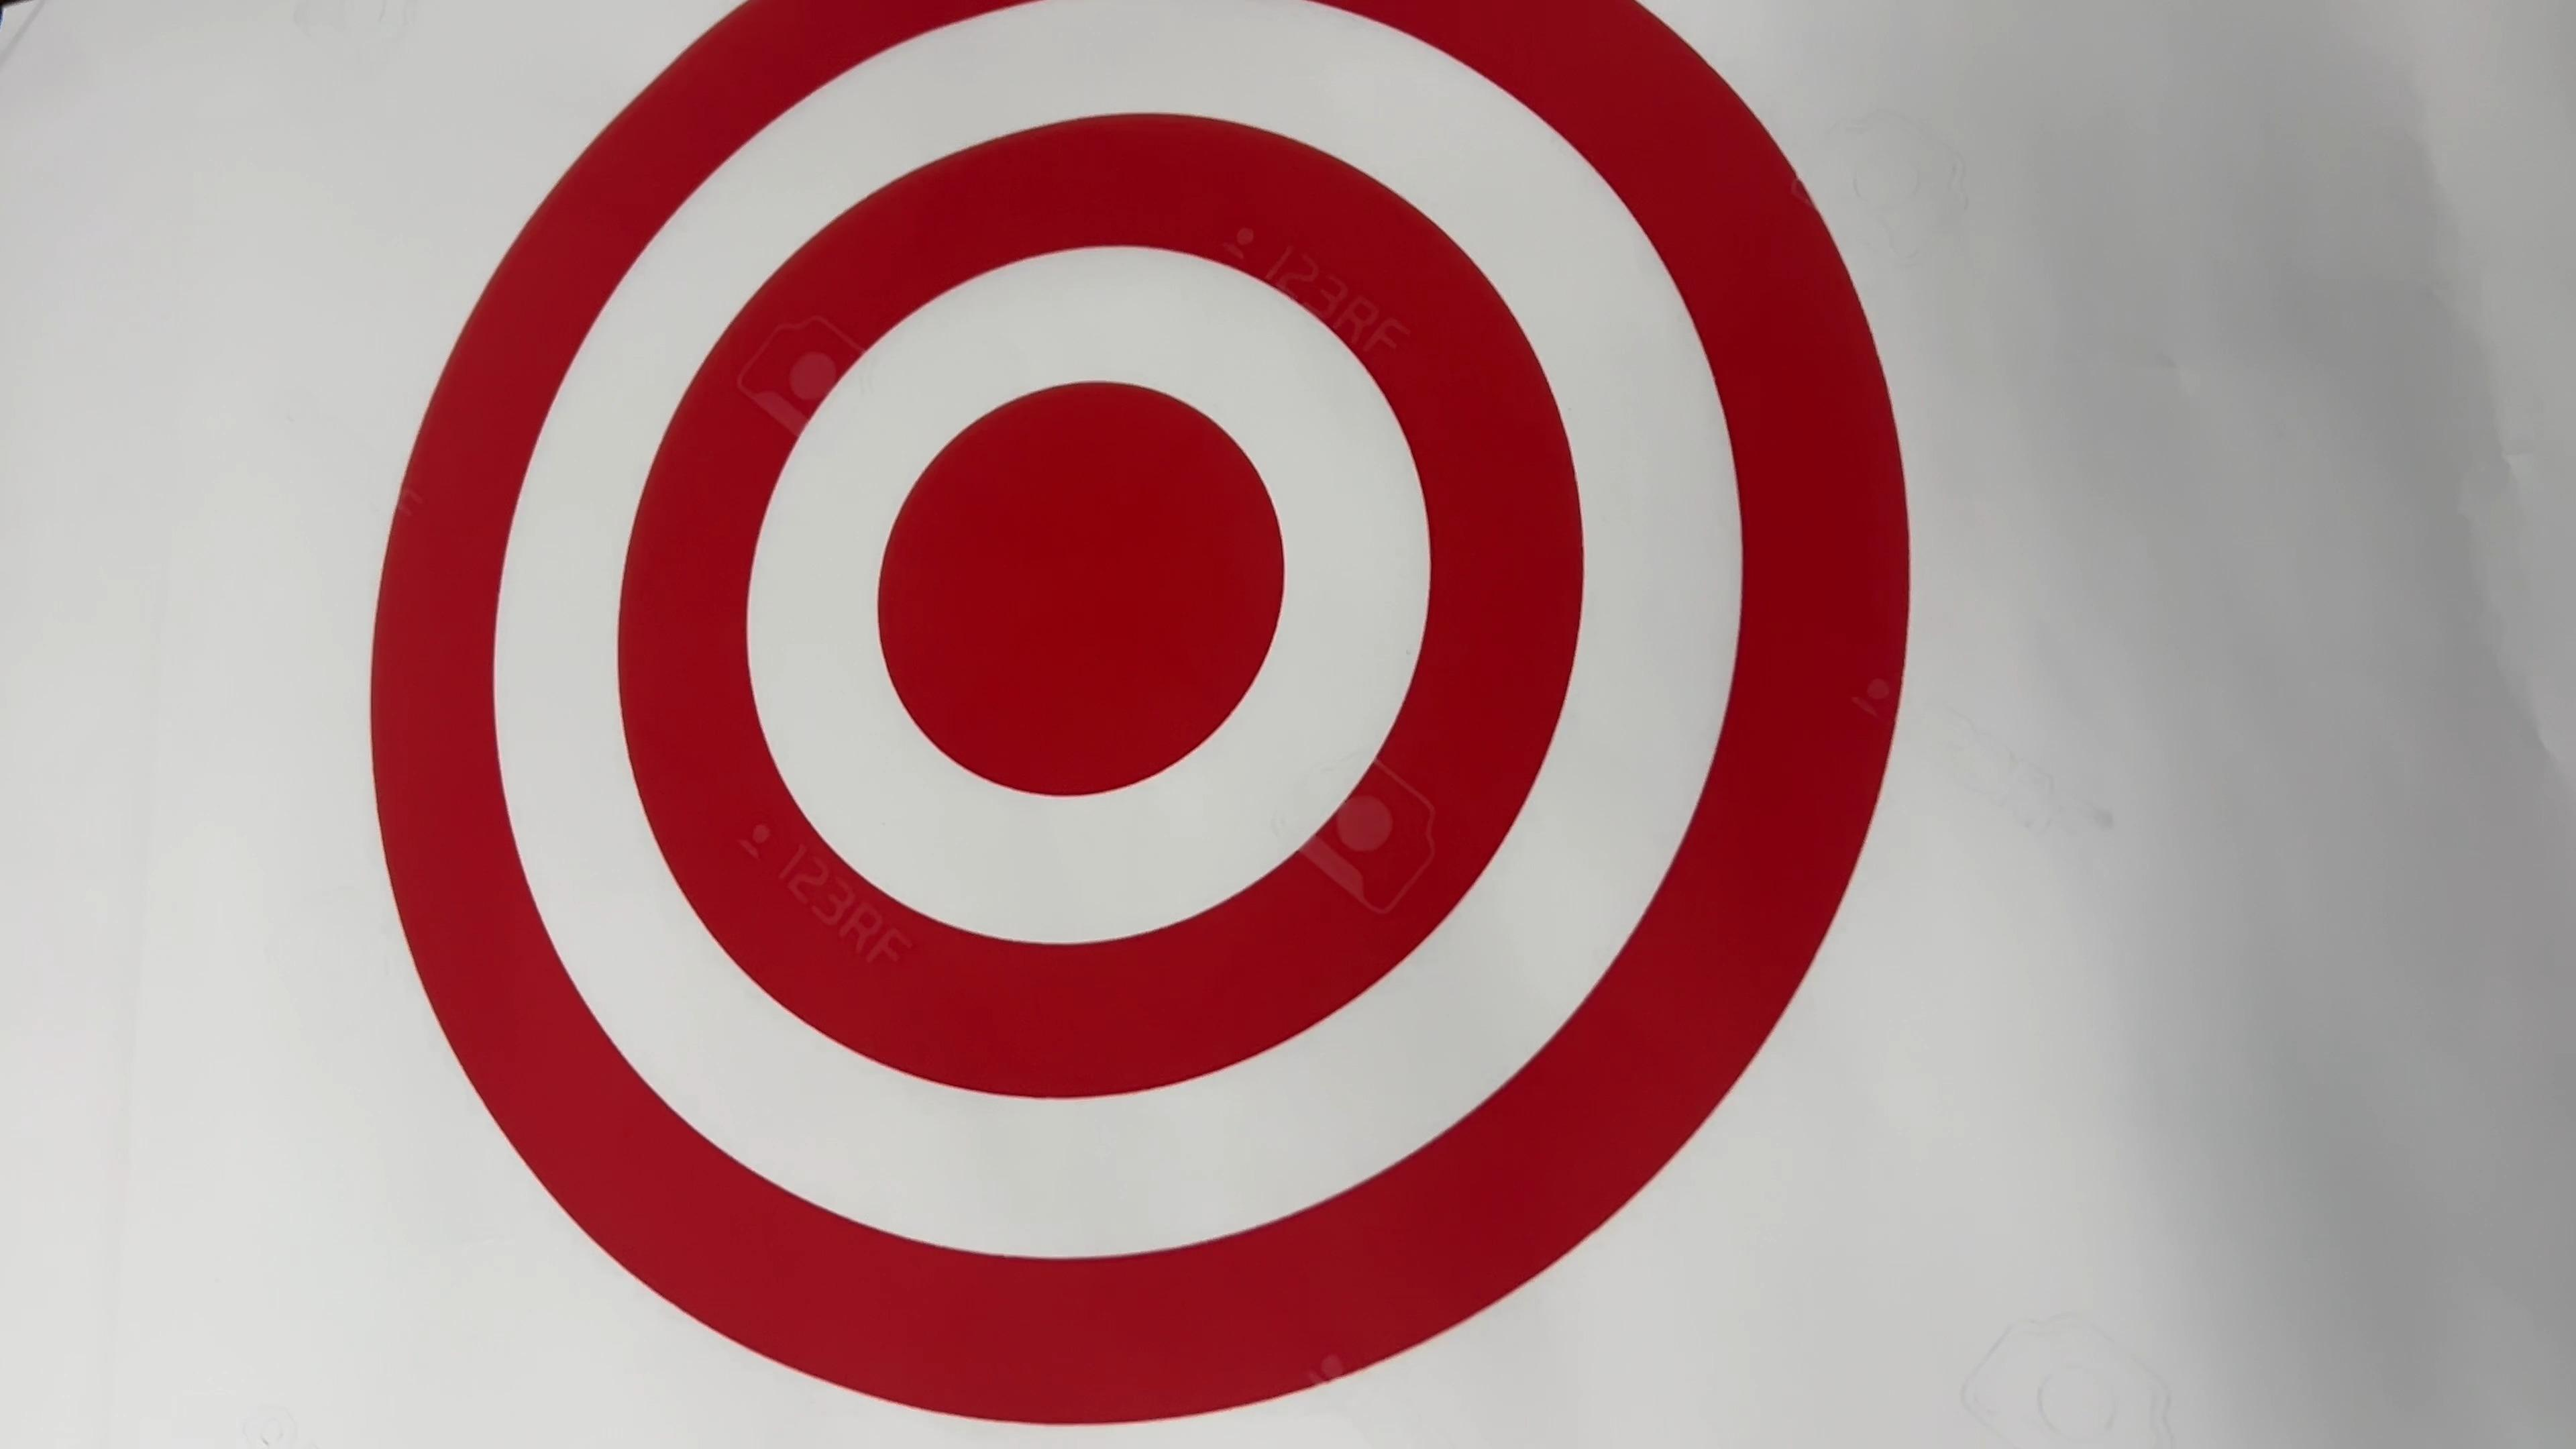target_red: (280, 0, 1985, 1428)
